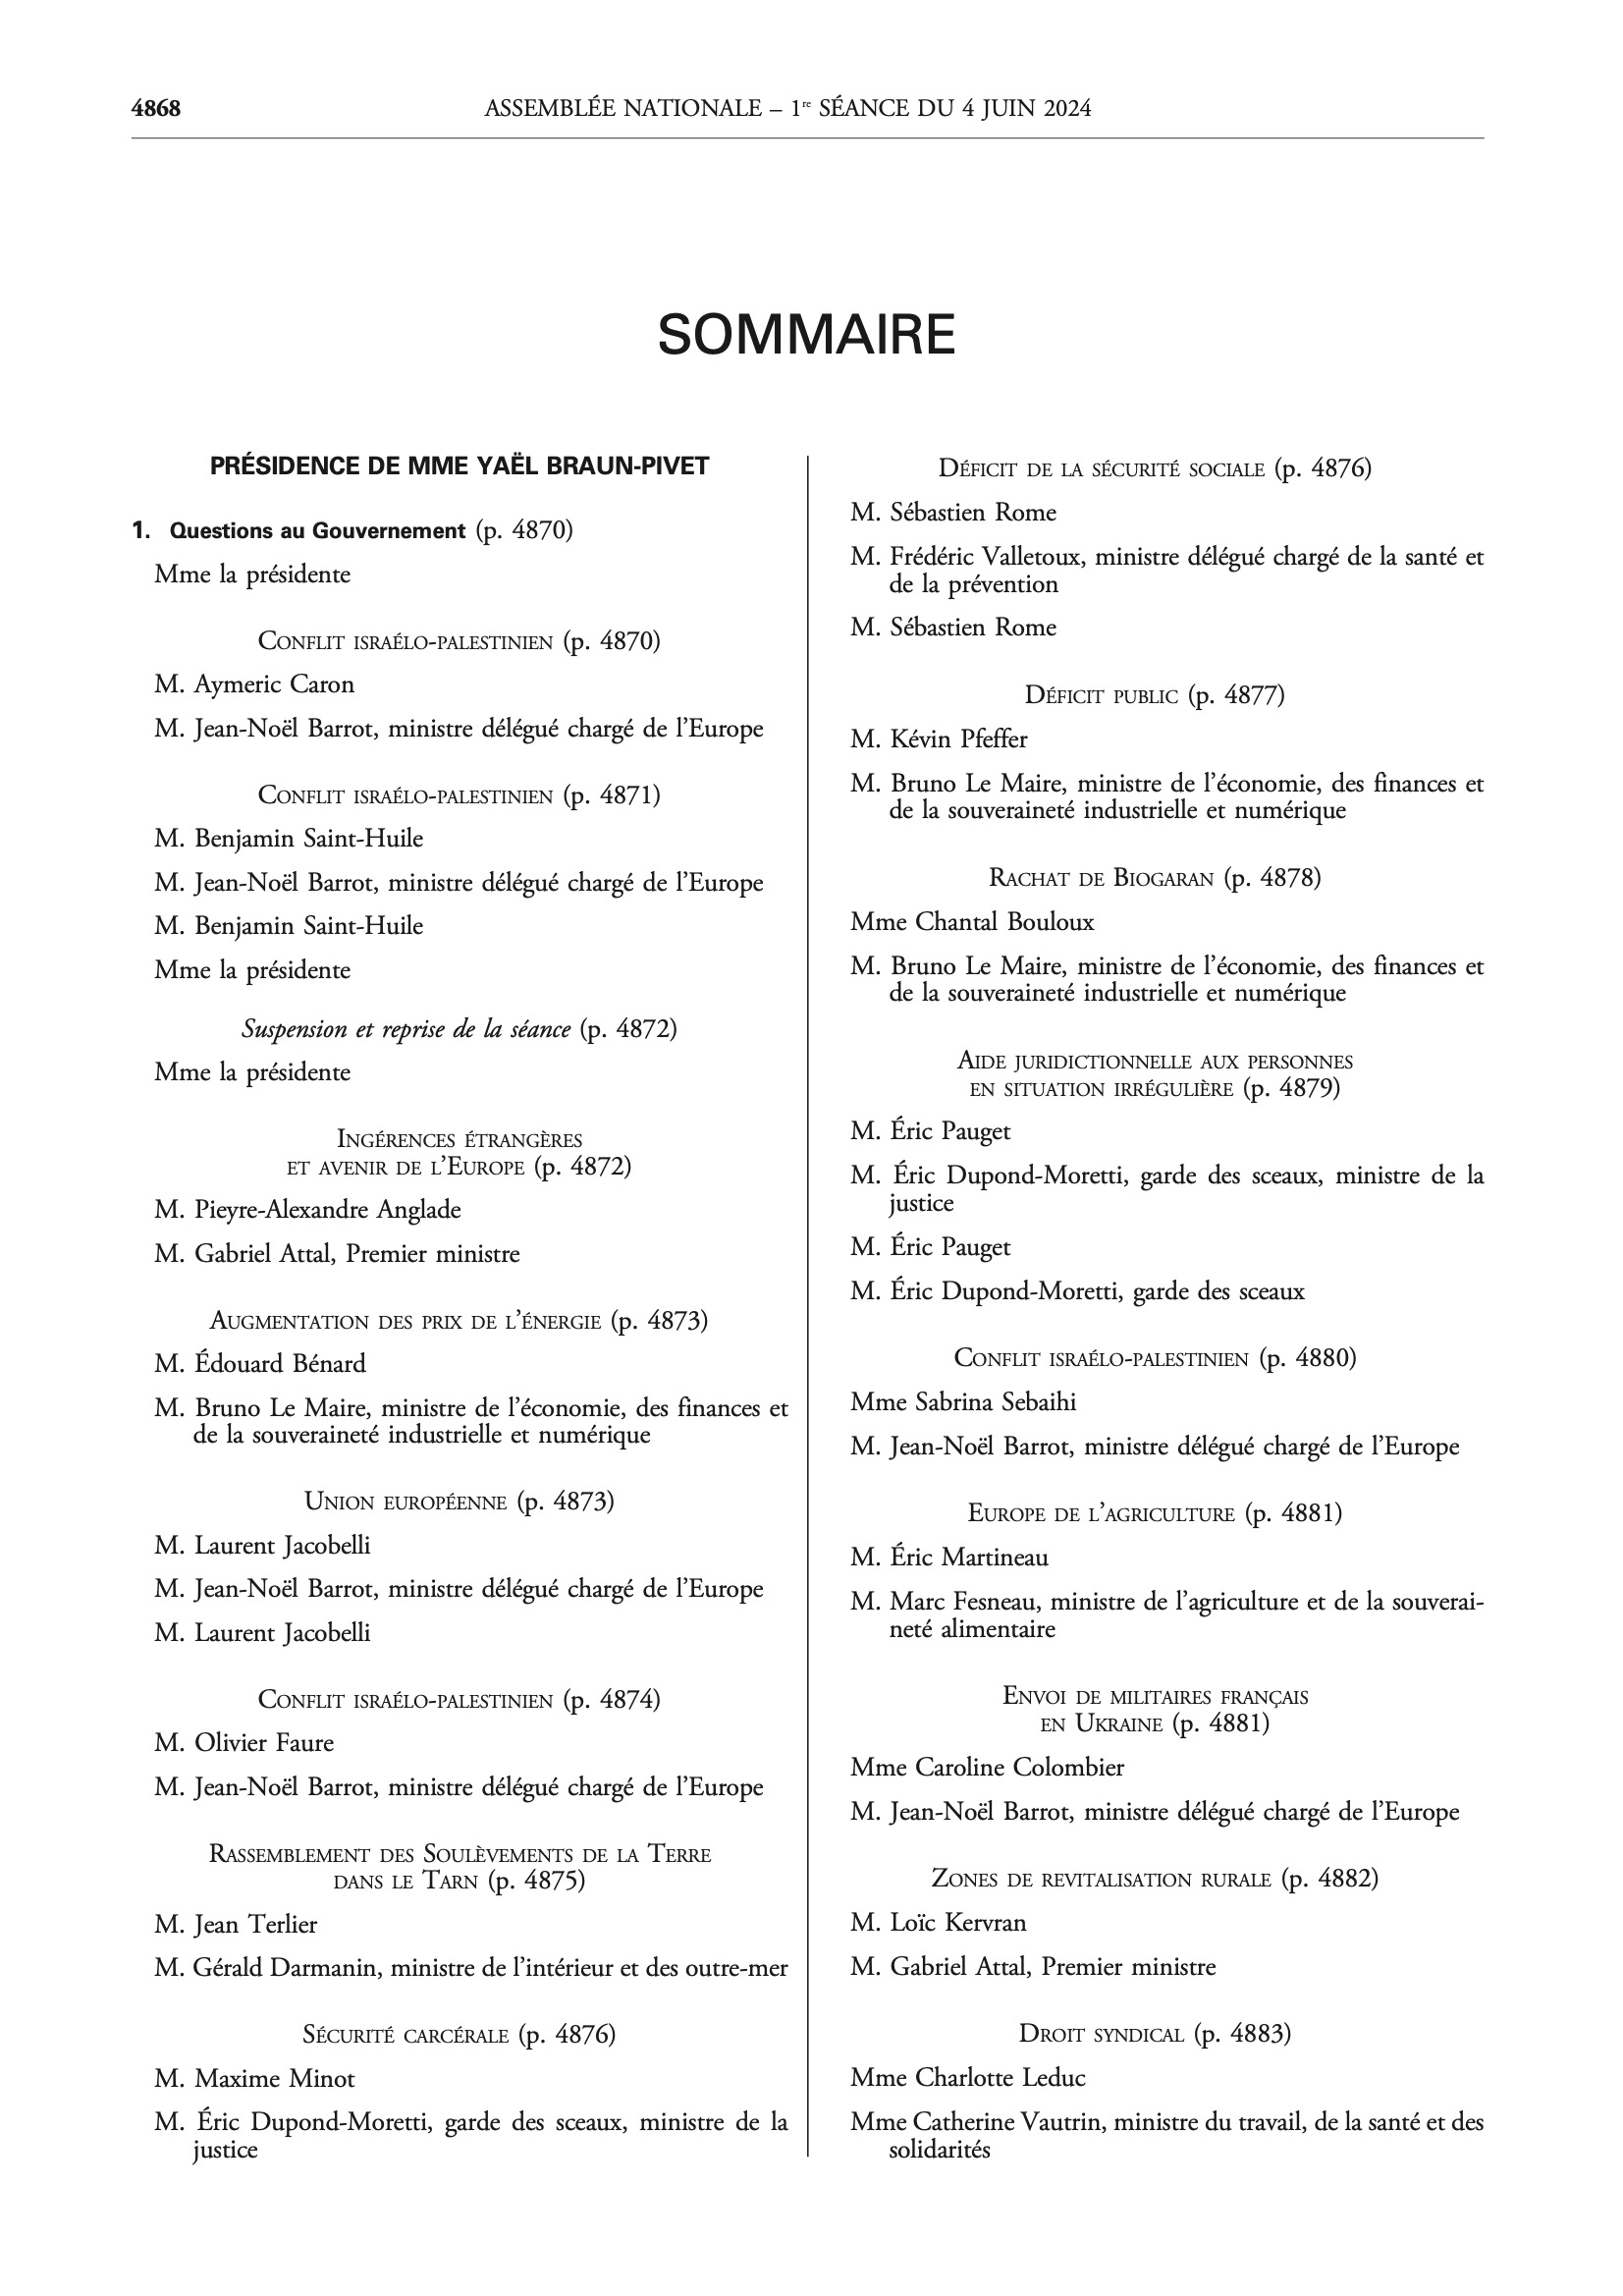MainZone-Head: (640, 294, 970, 380)
QuireMarksZone: (831, 421, 1526, 2179), (130, 432, 788, 2162)
StampZone: (472, 83, 1105, 137)
TitlePageZone: (121, 88, 188, 130)
